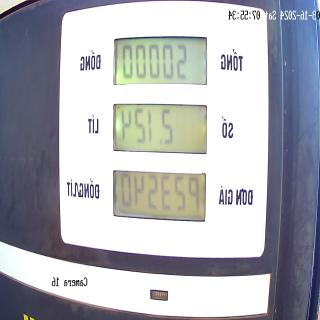screen: (109, 32, 211, 224)
